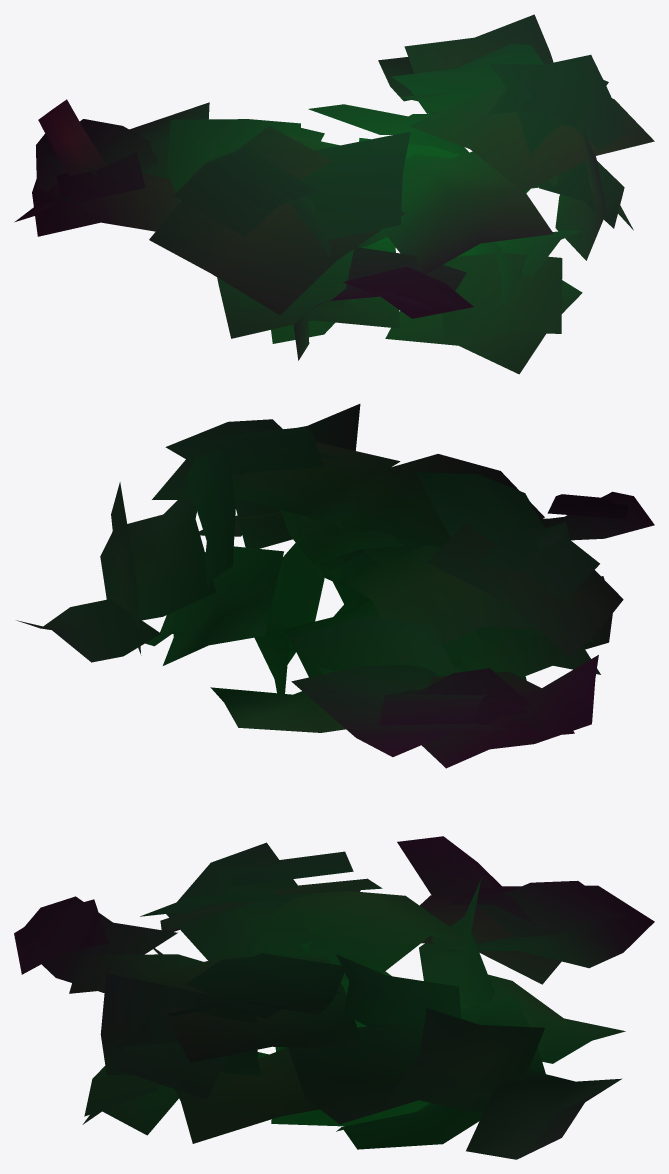
The model's file is p_mesh_pine03_part08_pose0.fbx.
The picture shows the model from 3 angles, top to bottom: view 1: azimuth 30°, elevation 25°; view 2: azimuth 150°, elevation 25°; view 3: azimuth 270°, elevation 25°; orthographic projection. The views are drawn at different scales.
Visible parts, largest first — view 1: p_mesh_pine03_p08_pose0; view 2: p_mesh_pine03_p08_pose0; view 3: p_mesh_pine03_p08_pose0.
Boxes of the visible parts, x1,y1,x2,y2 form: p_mesh_pine03_p08_pose0: (14,14,654,374); p_mesh_pine03_p08_pose0: (16,404,654,768); p_mesh_pine03_p08_pose0: (14,836,654,1159).
Size of the model in its own units: 55.62 by 21.16 by 53.73.
